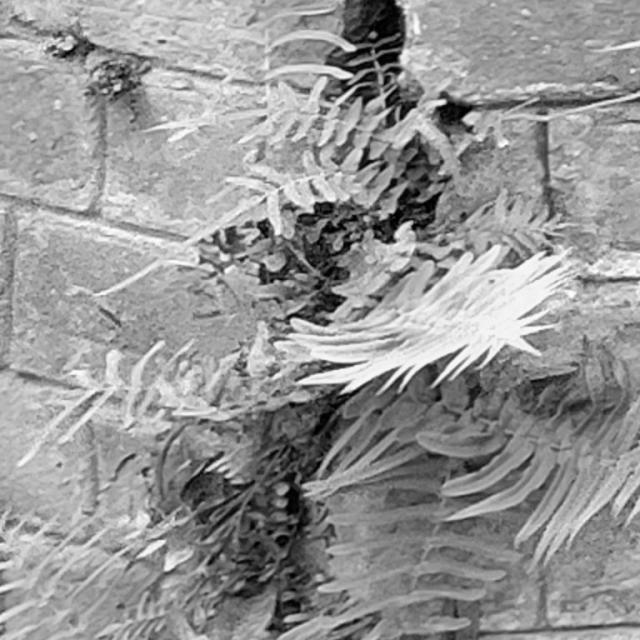crack: (248, 1, 474, 640)
